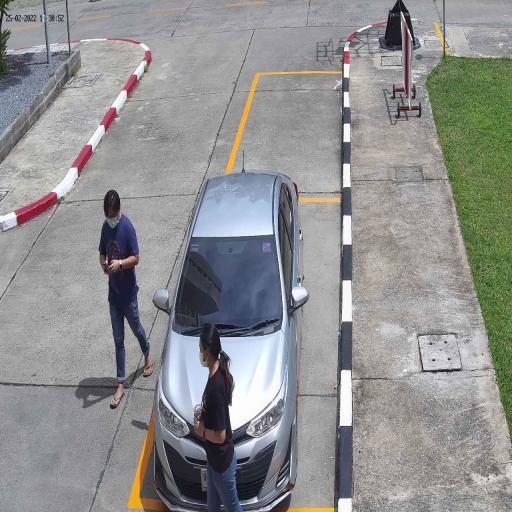car: (152, 170, 306, 512)
